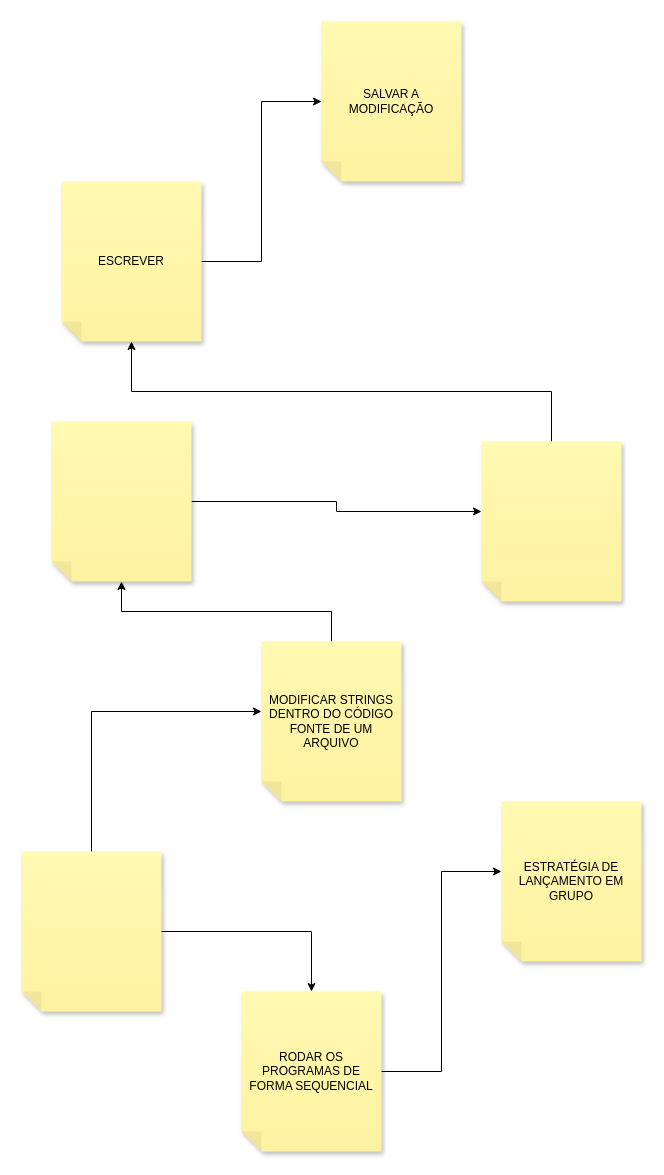
Some shapes in this 664 by 1175 pixel diagram are drawn without their labels. The centre of each missing label's shape, as x and y in pixels:
"COORDENAR A EXTRAÇÃO DE DADOS DE FORMA SEQUENCIAL" belongs at point (92, 932).
"PROCURAR PELA STRING DENTRO DO ARQUIVO DE TEXTO" belongs at point (552, 522).
"RECEBER UMA STRING QUE É VALOR MODIFICADO" belongs at point (122, 502).
